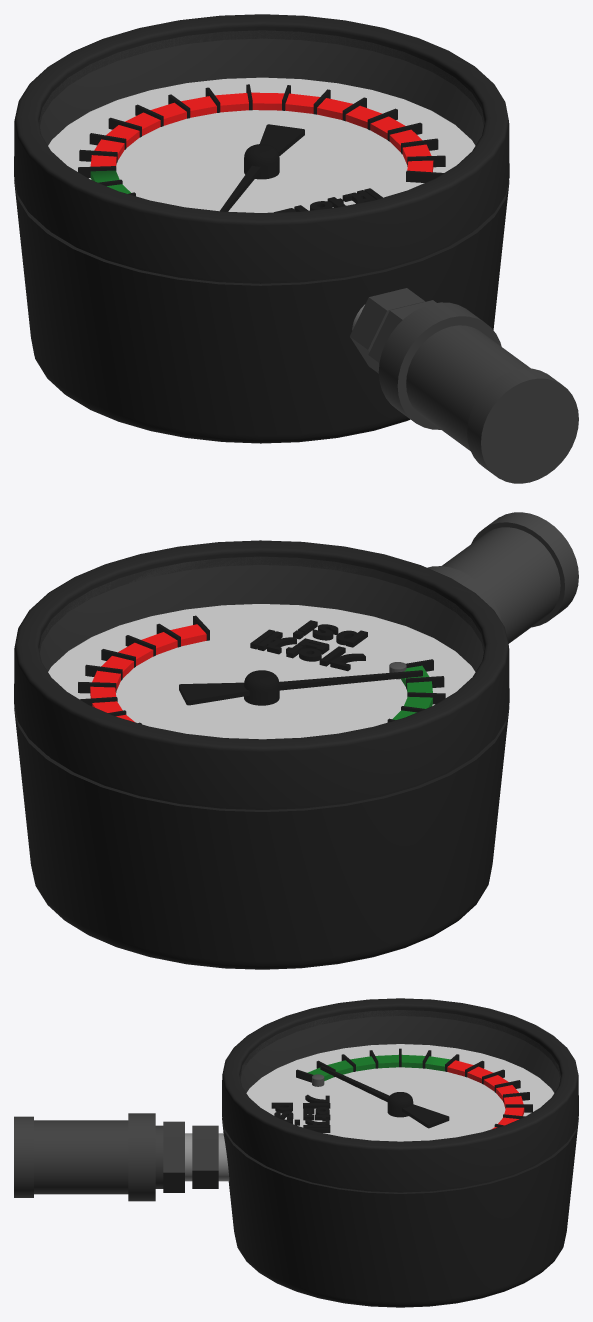
File: 기압계.FBX
3 renders of one model, top to bottom at view 1: azimuth 30°, elevation 25°; view 2: azimuth 150°, elevation 25°; view 3: azimuth 270°, elevation 25°, orthographic. The views are drawn at different scales.
Visible parts, largest first — view 1: 1; view 2: 1; view 3: 1.
Part boxes in pixels (left/top/right/bottom): 1: left=14, top=14, right=578, bottom=483; 1: left=14, top=512, right=578, bottom=969; 1: left=14, top=998, right=578, bottom=1307.
Bounding box in the file's own units: 95.72 × 49.63 × 151.
